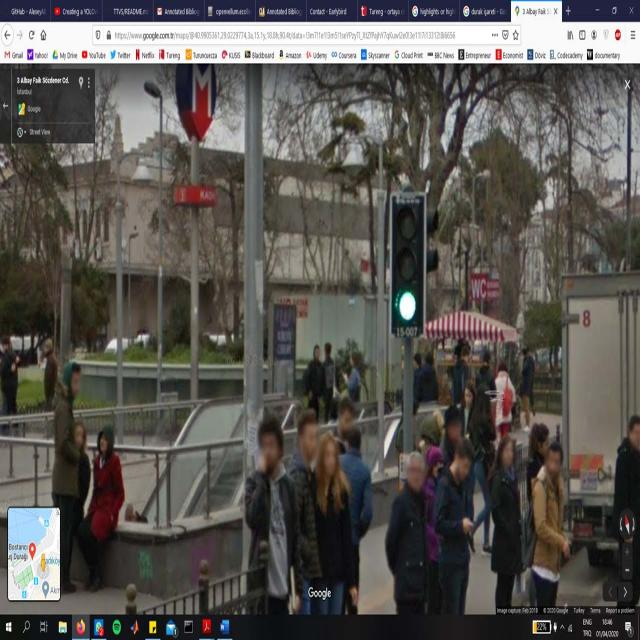yesil: (393, 192, 423, 332)
